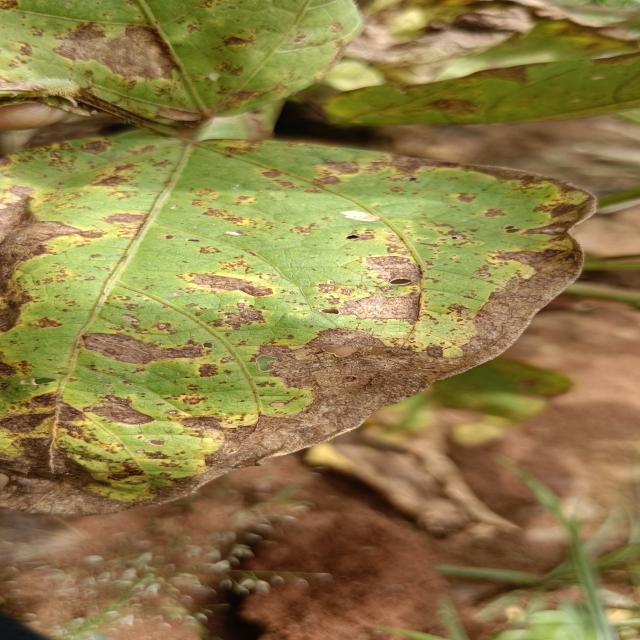Black gram_leaf spot: (0, 129, 604, 522), (0, 0, 364, 130), (328, 0, 640, 131)
